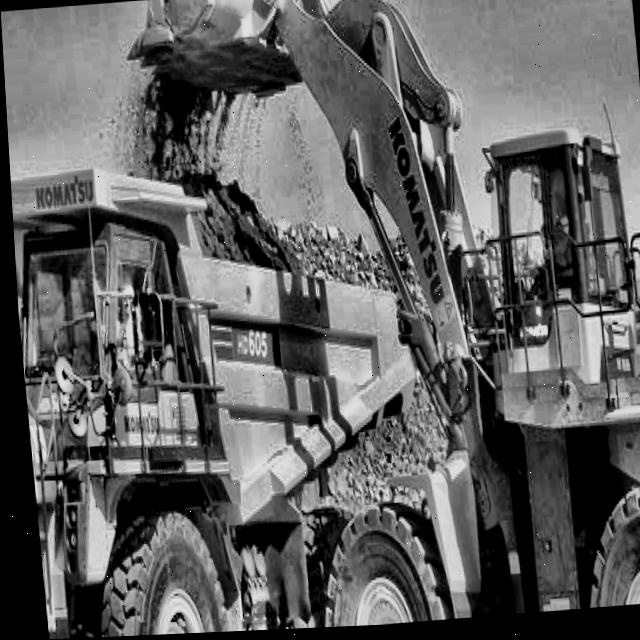buldozerpayloadergrader: (128, 0, 640, 636)
dump_truck: (6, 118, 402, 640)
